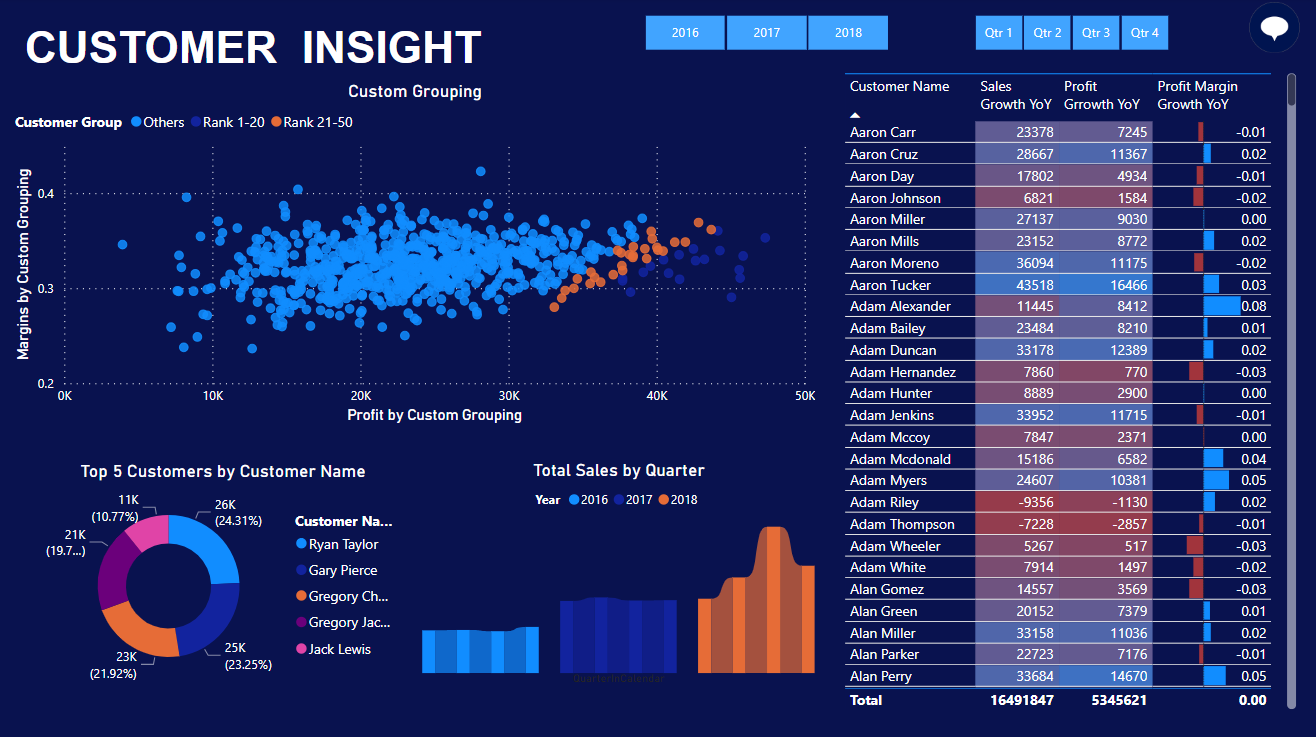

This screenshot's page, from the dashboard's own definition file:
{"tool":"powerbi","page":{"name":"Customer Insight","canvas":[1280,720],"ordinal":2},"visuals":[{"type":"donutChart","fields":{"Y":["Key Calculations.Top 5 Customers"],"Category":["Customer Data.Customer Name"]},"box":[39.3,447,358.8,222.9],"z":0},{"type":"slicer","fields":{"Values":["Dates.Year"]},"box":[600.8,11.2,284.3,47.2],"z":1000},{"type":"slicer","fields":{"Values":["Dates.Date.Variation.Date Hierarchy.Quarter"]},"box":[918.6,11.2,235.8,47.2],"z":2000},{"type":"textbox","box":[22.5,18.8,493.5,73.9],"z":3000},{"type":"tableEx","fields":{"Values":["Customer Data.Customer Name","Time Intelligence Functions.Sales TY vs LY","Time Intelligence Functions.Profit TY Vs LY","Time Intelligence Functions.Profit Margin TY Vs LY"]},"box":[813.4,68.6,446.6,623.8],"z":4000},{"type":"scatterChart","title":"Custom Grouping","fields":{"X":["Key Calculations.Profit  by Custom Grouping"],"Category":["Customer Data.Customer Name"],"Series":["Customer Group.Customer Group"],"Y":["Key Calculations.Margins by Custom Grouping"]},"box":[13.7,81.1,782.2,335.6],"z":5000},{"type":"ribbonChart","title":"Total Sales by Quarter","fields":{"Category":["Dates.QuarterInCalendar"],"Y":["Key Calculations.Total Sales"],"Series":["Dates.Year"]},"box":[406.7,446.6,389.2,222.1],"z":6000},{"type":"image","box":[1186.7,0,93.1,58.3],"z":7000}]}

Visuals, with their boxes in screenshot pixels (x1, y1, x2, y2), scaled from the page's 1280x720 canvas onto the 1316x737 screenshot:
donutChart - Key Calculations.Top 5 Customers x Customer Data.Customer Name: bbox(40, 458, 409, 686)
slicer - Dates.Year: bbox(618, 11, 910, 60)
slicer - Dates.Date.Variation.Date Hierarchy.Quarter: bbox(944, 11, 1187, 60)
textbox: bbox(23, 19, 531, 95)
tableEx - Customer Data.Customer Name x Time Intelligence Functions.Sales TY vs LY: bbox(836, 70, 1295, 709)
"Custom Grouping" scatterChart: bbox(14, 83, 818, 427)
"Total Sales by Quarter" ribbonChart: bbox(418, 457, 818, 684)
image: bbox(1220, 0, 1315, 60)
